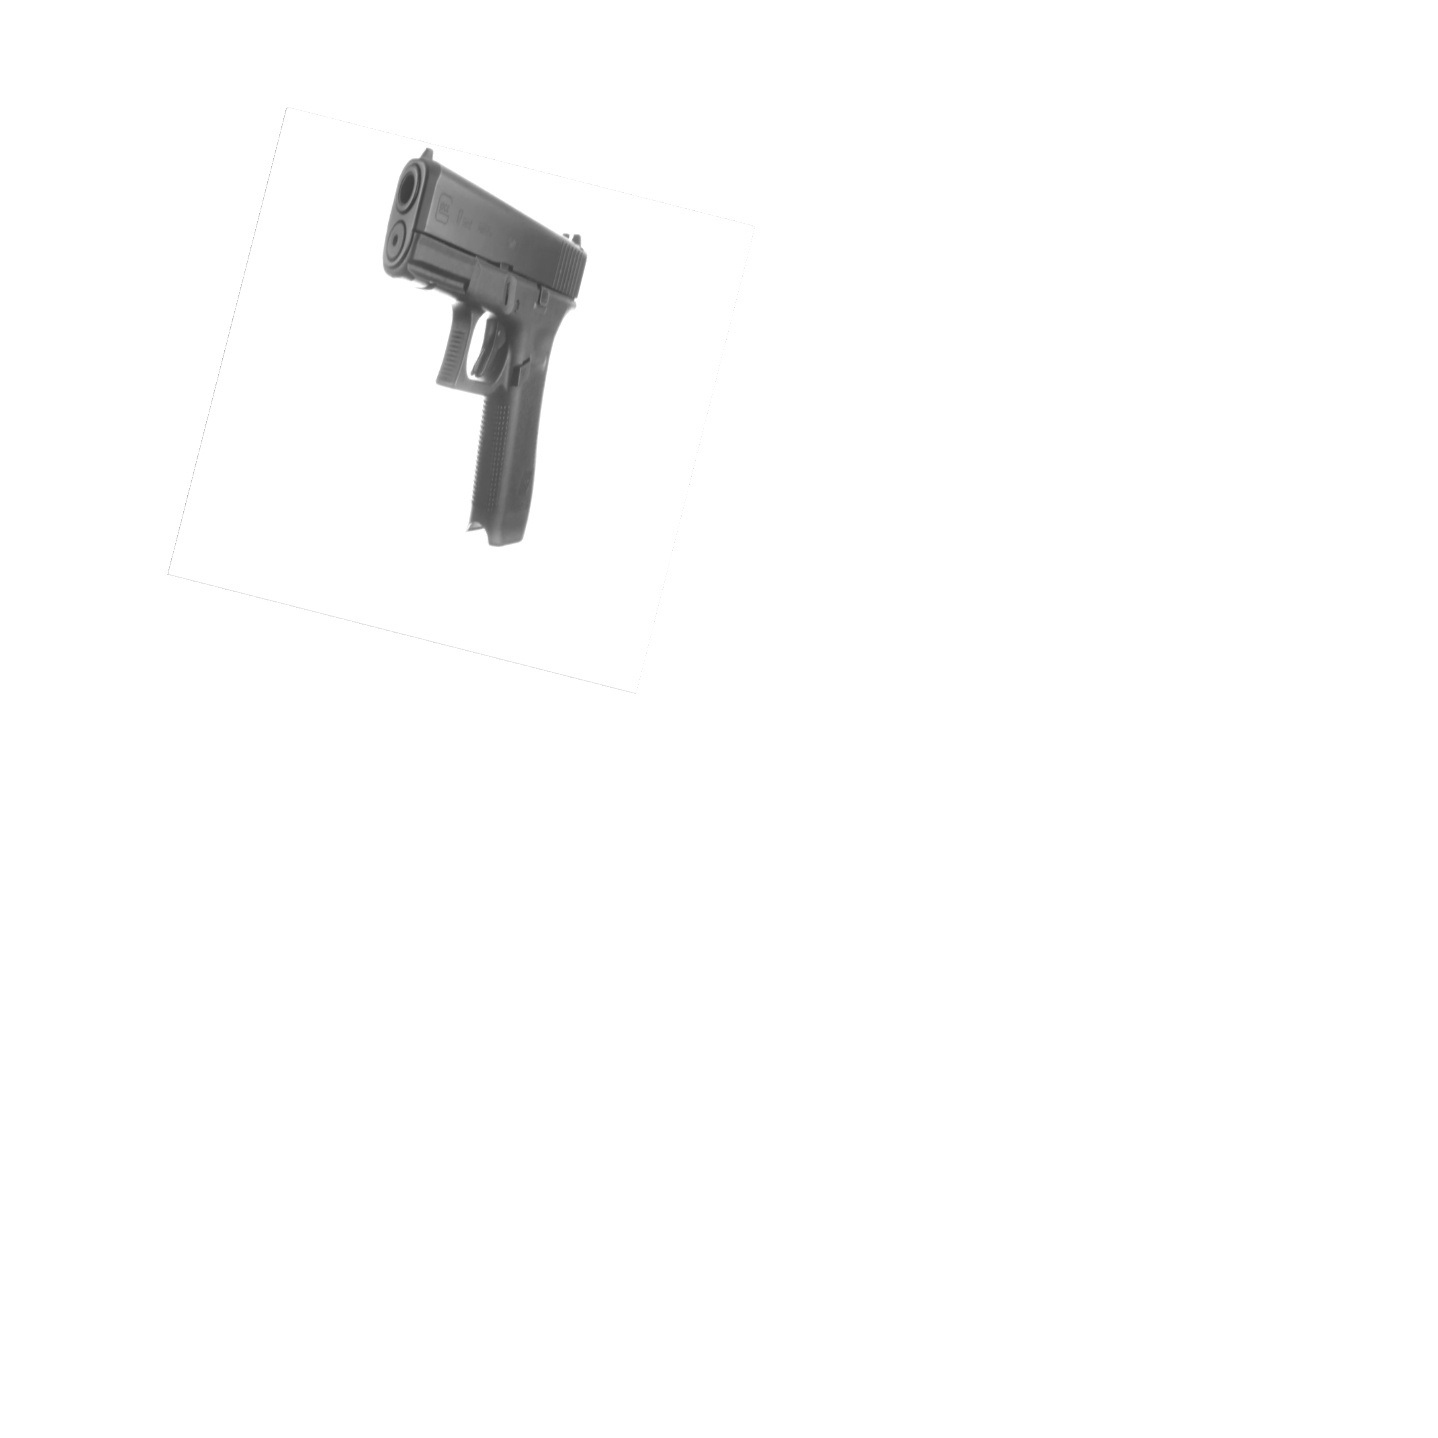gun: (357, 140, 597, 550)
